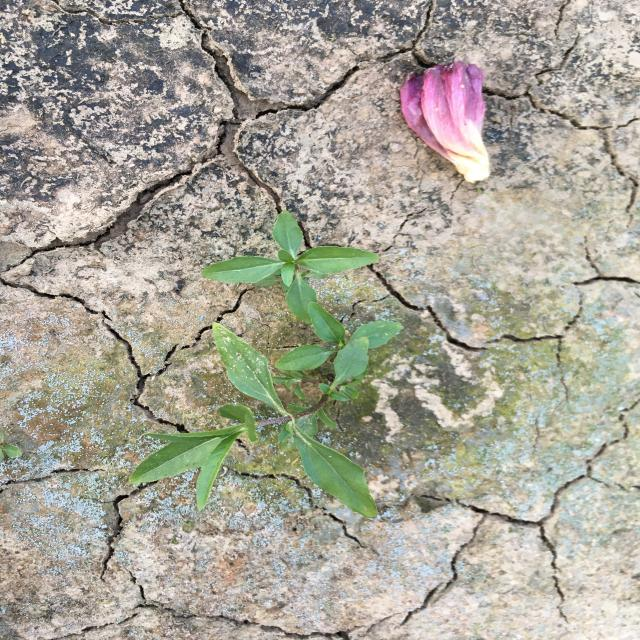Eclipta: (126, 300, 407, 522), (198, 209, 383, 326)
